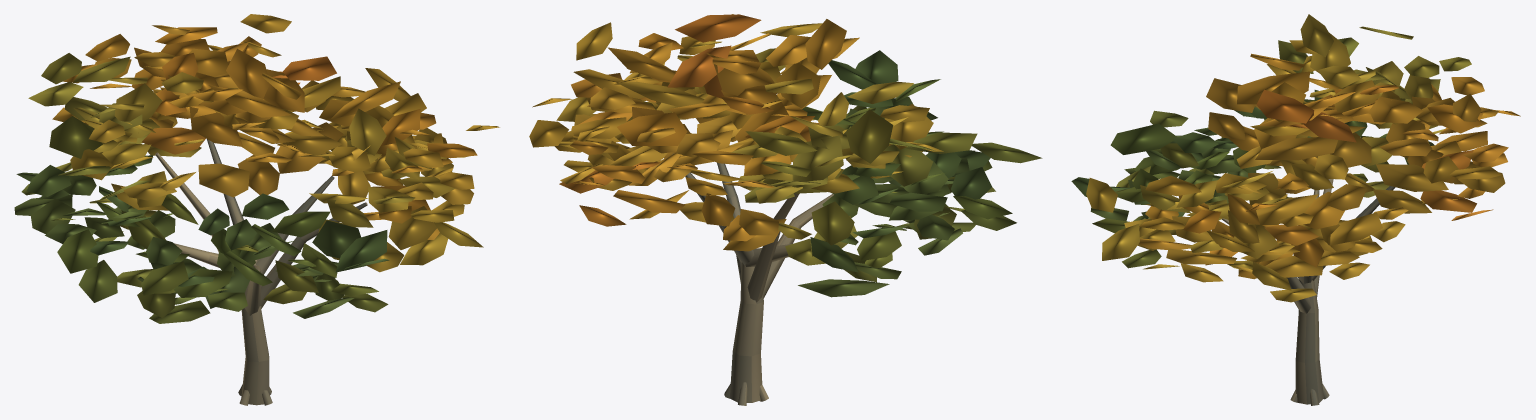
Rendered from HK_Tree_Sakura.lod.glb.
The picture shows the model from 3 angles, left to right: view 1: azimuth 30°, elevation 25°; view 2: azimuth 150°, elevation 25°; view 3: azimuth 270°, elevation 25°; orthographic projection. The views are drawn at different scales.
Parts seen in each view (by area): view 1: HK_Tree_Sakura; view 2: HK_Tree_Sakura; view 3: HK_Tree_Sakura.
Part boxes in pixels (<box>): HK_Tree_Sakura: <box>14,14,499,405</box>; HK_Tree_Sakura: <box>529,14,1042,405</box>; HK_Tree_Sakura: <box>1071,14,1520,405</box>.
Size of the model in its own units: 7.94 by 6.26 by 7.89.
